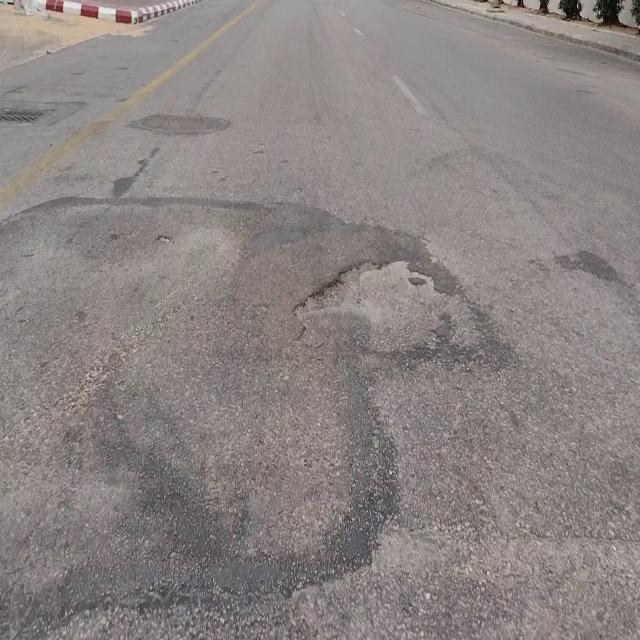Pothole: (295, 254, 471, 344)
